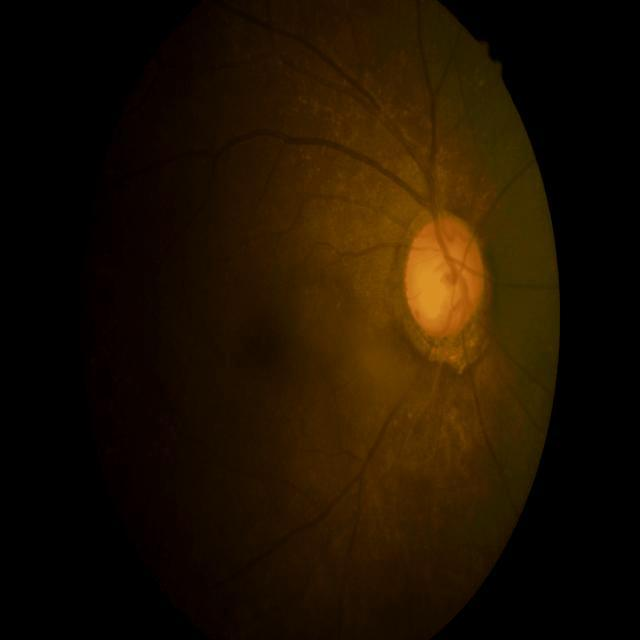cup: (418, 242, 468, 330)
disk: (404, 213, 484, 339)
